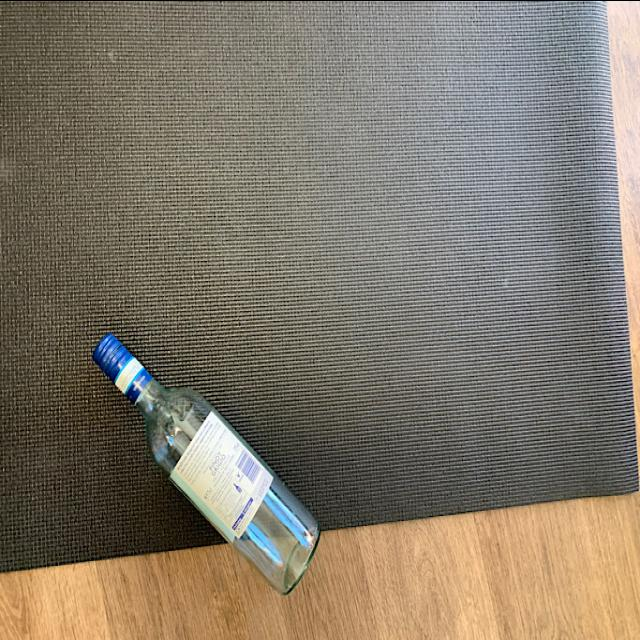Glass Bottle: (91, 320, 321, 596)
